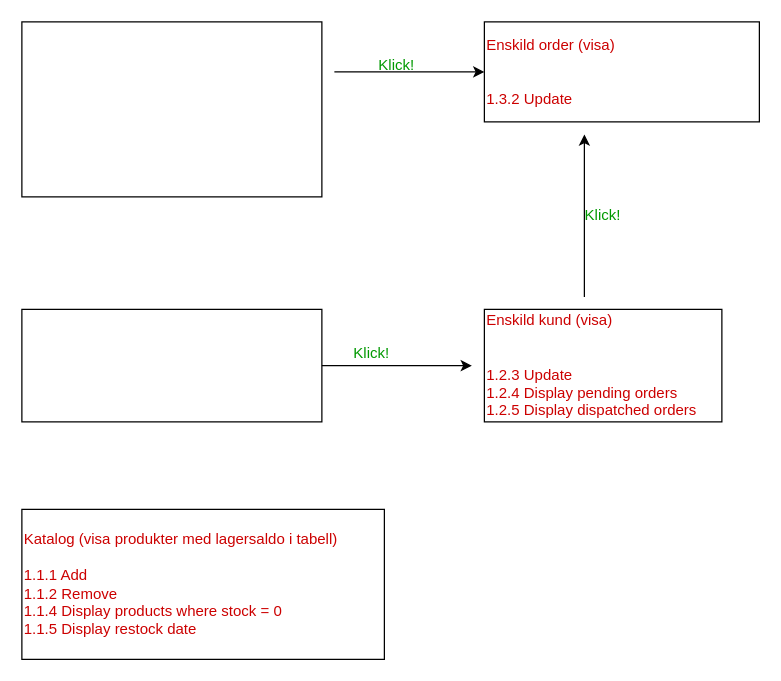
This 781x681 diagram has some shape labels left out. The shapes that lost their labels are listed below. From the top down, each one's box as (x1, y1, x2, y2) in pixels, then its label:
(21, 21, 322, 197): Ordrar (visa i tabell) - pending - dispatched 1.3.1. Add 1.3.3 Batch processing?
(21, 308, 322, 422): Kunder (visa i tabell) 1.2.1 Add 1.2.2 Remove
